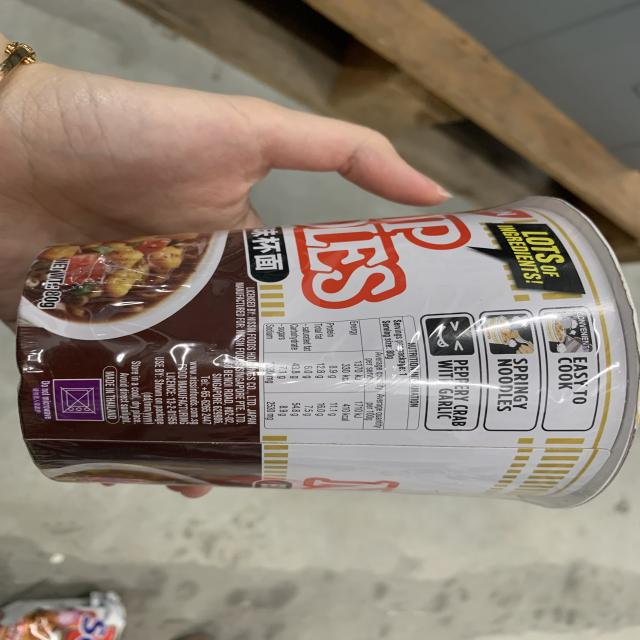object_name: (20, 213, 617, 490)
